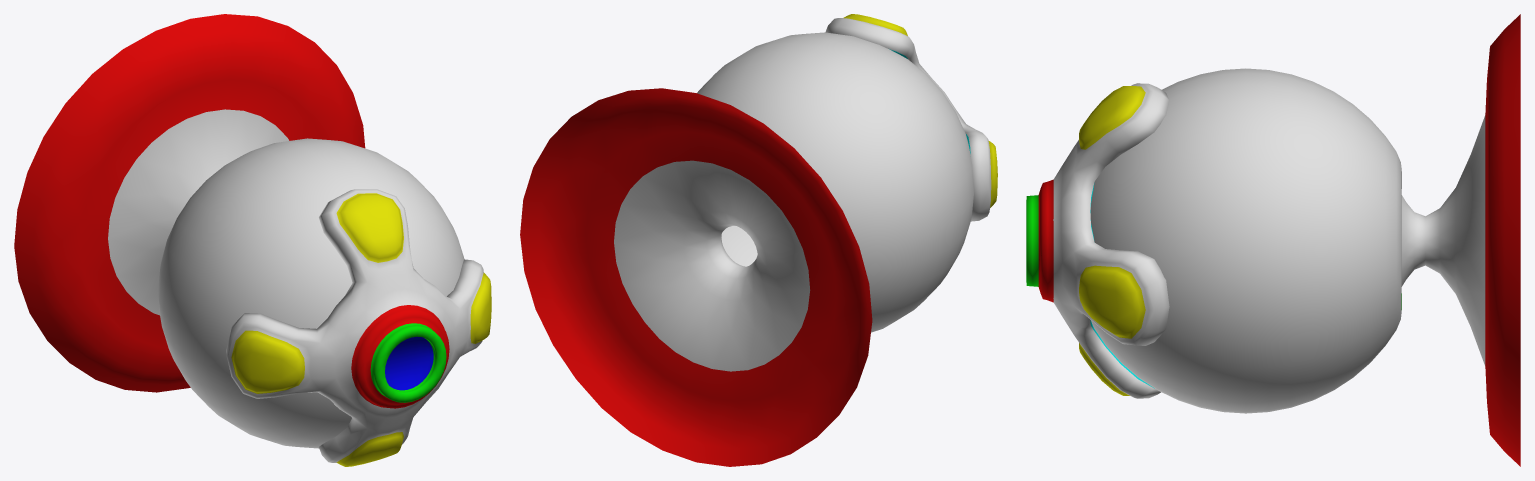
The model's file is ObservationCamera.fbx.
3 renders of one model, left to right at view 1: azimuth 30°, elevation 25°; view 2: azimuth 150°, elevation 25°; view 3: azimuth 270°, elevation 25°, orthographic. The views are drawn at different scales.
Visible parts, largest first — view 1: ObservationCameraBase, ObservationCamera; view 2: ObservationCameraBase, ObservationCamera; view 3: ObservationCameraBase, ObservationCamera.
Boxes of the visible parts, box(x1,y1,x2,y2) form: ObservationCameraBase: box(14, 14, 464, 448); ObservationCamera: box(226, 189, 491, 466); ObservationCameraBase: box(520, 32, 973, 466); ObservationCamera: box(825, 14, 997, 221); ObservationCameraBase: box(1090, 14, 1520, 466); ObservationCamera: box(1026, 83, 1169, 398).
Bounding box in the file's own units: 128 × 128 × 139.
